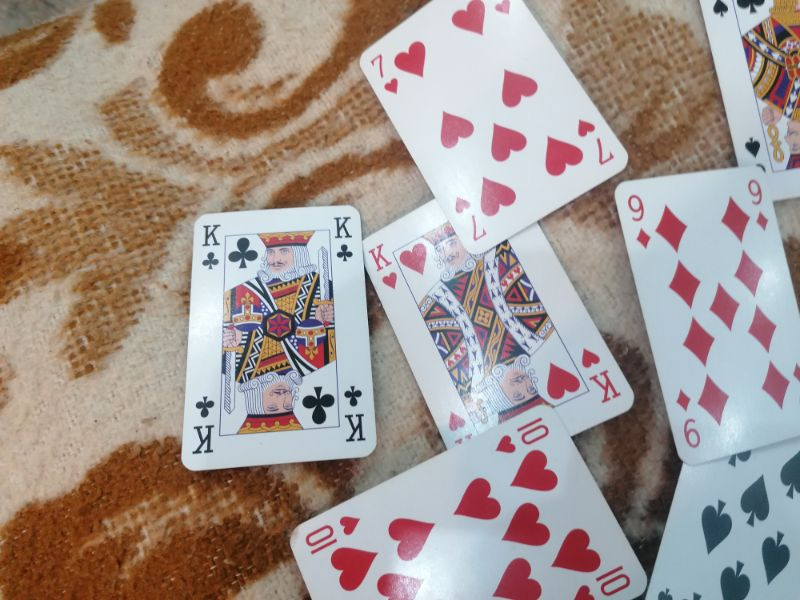7h: (573, 115, 617, 167), (451, 193, 489, 243), (366, 52, 404, 97)
9d: (674, 385, 704, 449), (623, 193, 656, 248), (744, 176, 774, 235)
Kc: (191, 392, 218, 459), (341, 382, 369, 445), (328, 213, 356, 265), (199, 222, 224, 273)
Kh: (575, 345, 622, 405), (365, 242, 401, 290)
Th: (302, 510, 364, 558), (495, 412, 549, 457)
